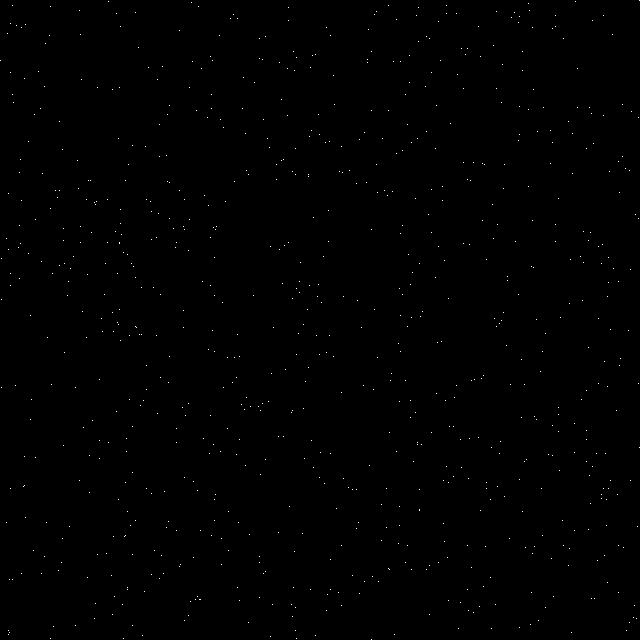Screwdriver: (83, 50, 565, 553)
